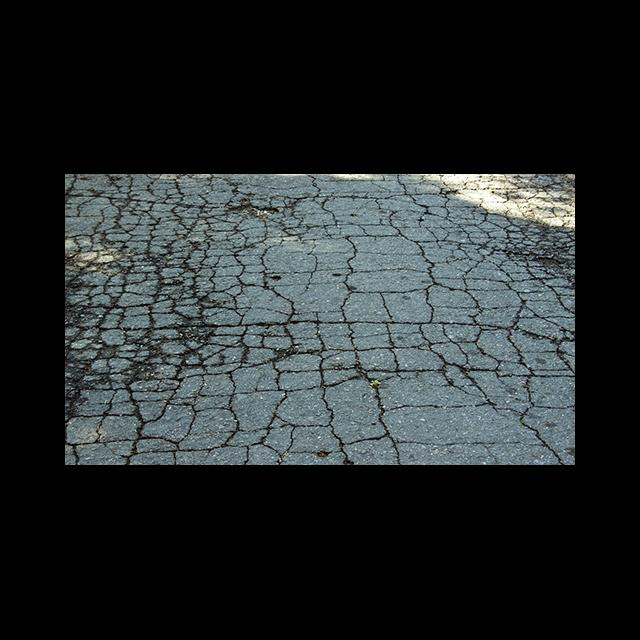retak_kulit_buaya: (65, 174, 575, 466)
